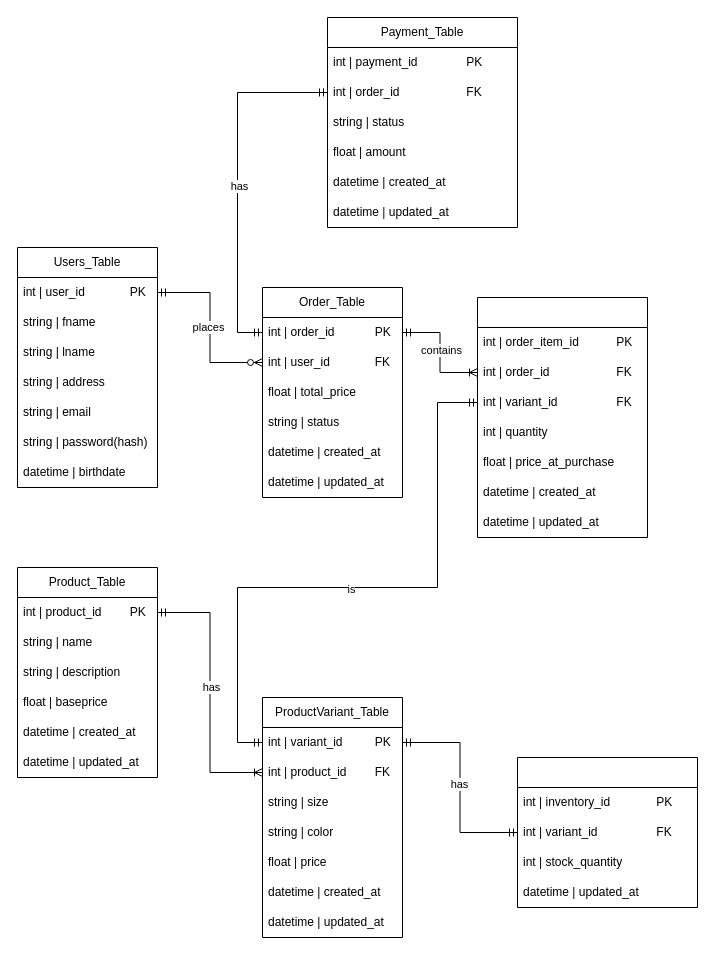
This 715x955 diagram has some shape labels left out. The box of each missing label's shape, as (x1, y1, x2, y2) in pixels:
Inventory_Table: (516, 756, 698, 908)
OrderItem_Table: (476, 296, 648, 538)
